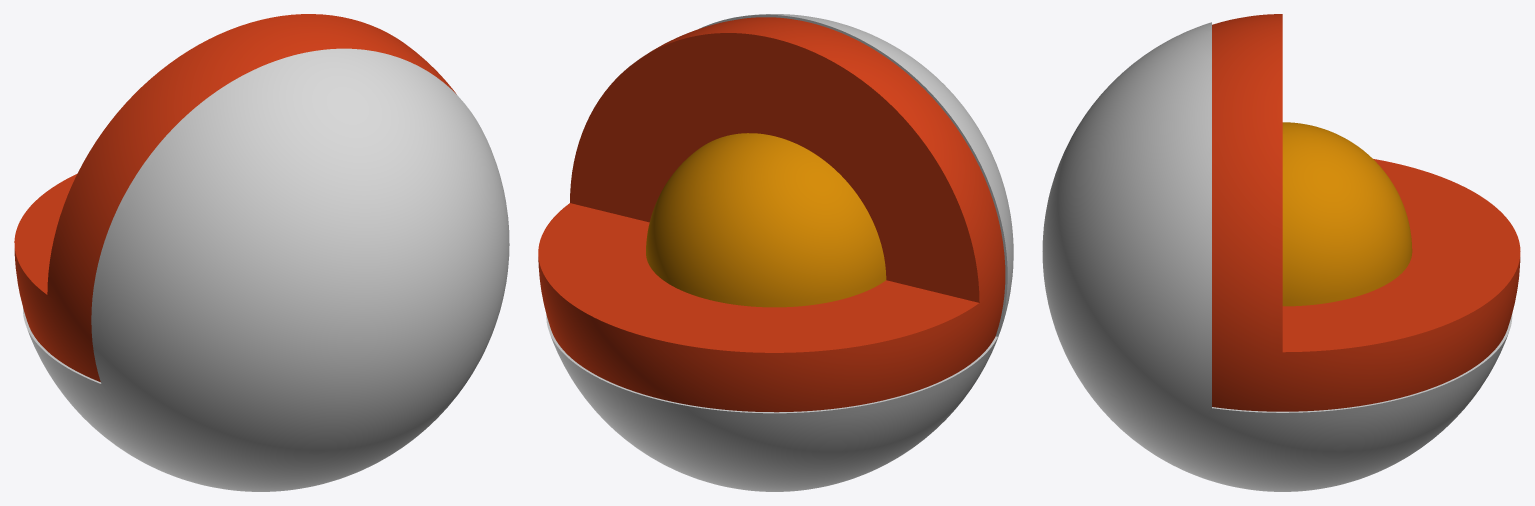
File: MarsCut.fbx
3 renders of one model, left to right at view 1: azimuth 30°, elevation 25°; view 2: azimuth 150°, elevation 25°; view 3: azimuth 270°, elevation 25°, orthographic. The views are drawn at different scales.
Parts seen in each view (by area): view 1: Mars, MarsMantle; view 2: MarsMantle, MarsCore, Mars; view 3: Mars, MarsMantle, MarsCore.
Part boxes in pixels (x1,y1,x2,y2): Mars: (23, 48, 509, 491); MarsMantle: (14, 14, 456, 381); MarsMantle: (538, 17, 1005, 412); MarsCore: (646, 133, 886, 307); Mars: (546, 14, 1013, 491); Mars: (1042, 22, 1512, 491); MarsMantle: (1212, 14, 1520, 411); MarsCore: (1282, 122, 1412, 306).
Size of the model in its own units: 67.18 by 67.54 by 67.54.
